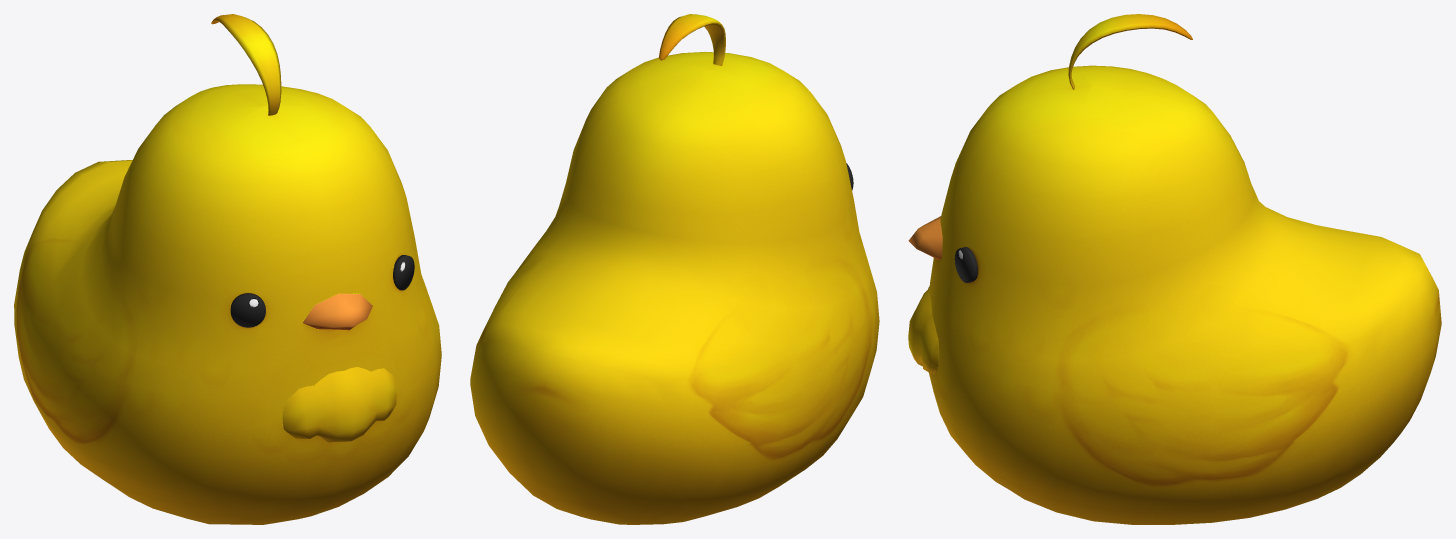
The model's file is hiyoko.fbx.
3 views of the same model, side by side, from view 1: azimuth 30°, elevation 25°; view 2: azimuth 150°, elevation 25°; view 3: azimuth 270°, elevation 25° (orthographic). The views are drawn at different scales.
Visible parts, largest first — view 1: Cylinder001; view 2: Cylinder001; view 3: Cylinder001.
Boxes of the visible parts, x1,y1,x2,y2 form: Cylinder001: (14,14,441,524); Cylinder001: (470,14,879,524); Cylinder001: (908,14,1441,524).
Size of the model in its own units: 274 by 378 by 380.
Materials: 1 (1 with a texture image).
